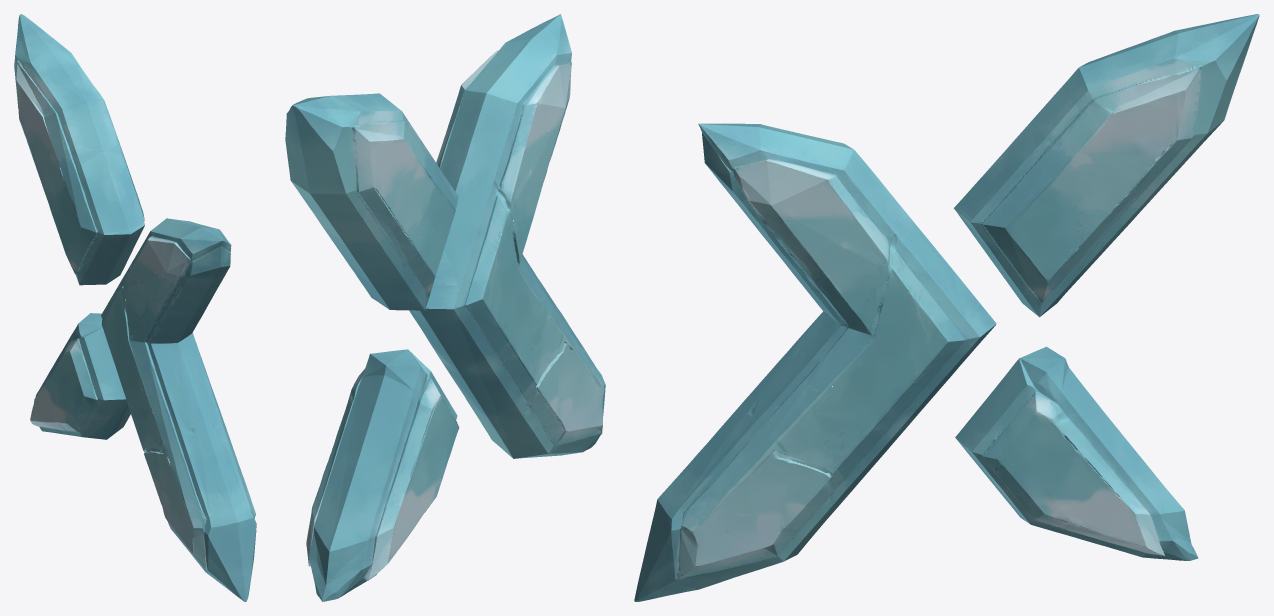
The picture shows the model from 3 angles, left to right: view 1: azimuth 30°, elevation 25°; view 2: azimuth 150°, elevation 25°; view 3: azimuth 270°, elevation 25°; orthographic projection. The views are drawn at different scales.
Parts seen in each view (by area): view 1: tripo_node_e4d1176e-fdcd-4d0f-896f-ce71d2014ae5; view 2: tripo_node_e4d1176e-fdcd-4d0f-896f-ce71d2014ae5; view 3: tripo_node_e4d1176e-fdcd-4d0f-896f-ce71d2014ae5.
Part boxes in pixels (<box>): tripo_node_e4d1176e-fdcd-4d0f-896f-ce71d2014ae5: <box>14,14,256,601</box>; tripo_node_e4d1176e-fdcd-4d0f-896f-ce71d2014ae5: <box>285,14,605,601</box>; tripo_node_e4d1176e-fdcd-4d0f-896f-ce71d2014ae5: <box>634,14,1259,601</box>.
Size of the model in its own units: 0.1546 by 1 by 0.9659.
1 material, 1 textured.
